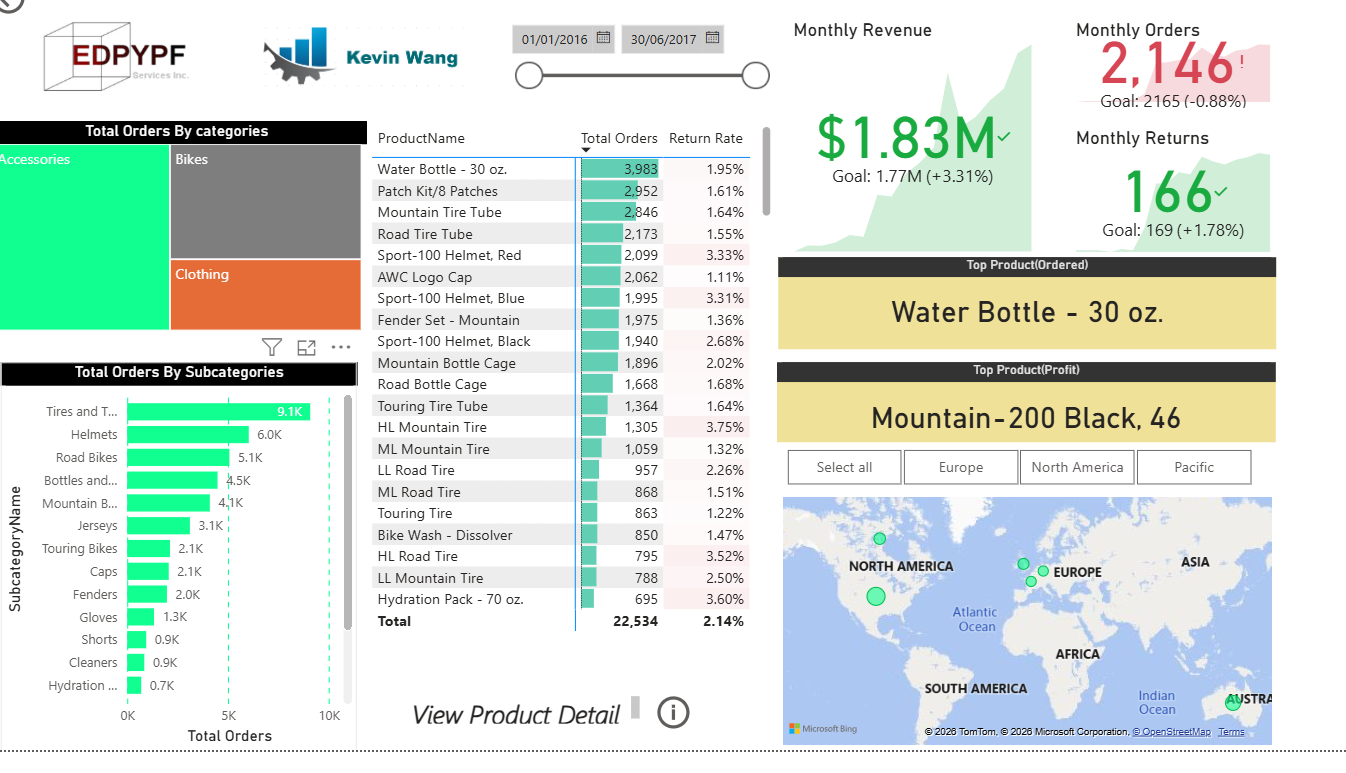

The dashboard page shown, as its layout file describes it:
{"tool":"powerbi","page":{"name":"Exct Summary","canvas":[1280,720],"ordinal":0},"visuals":[{"type":"actionButton","box":[0,0,100,40],"z":0},{"type":"barChart","title":"Total Orders By Subcategories","fields":{"Y":["AW_Sales.Total Orders"],"Category":["AW_Product_Subcategory_Lookup.SubcategoryName"]},"box":[12.3,359.5,332.1,360.9],"z":2000},{"type":"treemap","title":"Total Orders By categories","fields":{"Group":["AW_Product_Category_Lookup.CategoryName","AW_Product_Subcategory_Lookup.SubcategoryName"],"Values":["AW_Sales.Total Orders"]},"box":[0,134.9,353.5,200],"z":3000},{"type":"pivotTable","fields":{"Values":["AW_Sales.Total Orders","AW_Returns.Return Rate"],"Rows":["AW_Product_Category_Lookup.CategoryName","AW_Product_Subcategory_Lookup.SubcategoryName","AW_Product_Lookup.ProductName"]},"box":[353.5,134.9,381.4,479.1],"z":4000},{"type":"slicer","fields":{"Values":["AW_Calendar_Lookup.Date"]},"box":[475.6,34.9,260.5,79.1],"z":5000},{"type":"kpi","title":"Monthly Revenue","fields":{"Indicator":["AW_Sales.Total Revenue"],"TrendLine":["AW_Calendar_Lookup.Start of Month"],"Goal":["AW_Sales.Prev Month Revenue"]},"box":[745.7,39.6,231.7,222.1],"z":6000},{"type":"kpi","title":"Monthly Orders","fields":{"TrendLine":["AW_Calendar_Lookup.Start of Month"],"Indicator":["AW_Sales.Total Orders"],"Goal":["AW_Sales.Prev Month Orders"]},"box":[1008.6,39.6,190.9,82.9],"z":7000},{"type":"kpi","title":"Monthly Returns","fields":{"TrendLine":["AW_Calendar_Lookup.Start of Month"],"Indicator":["AW_Returns.Total Returns"],"Goal":["AW_Returns.Prev Month Returns"]},"box":[1008.6,140.5,190.9,121.3],"z":8000},{"type":"card","title":"Top Product(Ordered)","fields":{"Values":["AW_Product_Lookup.ProductName"]},"box":[736.1,261.8,463.5,85.3],"z":9000},{"type":"card","title":"Top Product(Profit)","fields":{"Values":["AW_Product_Lookup.ProductName"]},"box":[734.9,359.3,464,86],"z":10000},{"type":"map","fields":{"Category":["AW_Territories_Lookup.Country"],"Size":["AW_Sales.Total Orders"]},"box":[736,480.2,464,239.5],"z":11000},{"type":"slicer","fields":{"Values":["AW_Territories_Lookup.Continent"]},"box":[718.6,433.7,481.4,46.5],"z":12000},{"type":"textbox","box":[389.1,665.7,222.4,35.6],"z":13000},{"type":"actionButton","box":[618.6,665.7,99.8,39.9],"z":14000},{"type":"image","box":[36,0,193,148.8],"z":14001},{"type":"image","box":[247.7,19.8,210.5,110.5],"z":14002}]}

Visuals, with their boxes in screenshot pixels (x1, y1, x2, y2), scaled from the page's 1280x720 canvas onto the 1346x773 screenshot:
actionButton: pyautogui.locateOnScreen(0, 0, 105, 43)
"Total Orders By Subcategories" barChart: pyautogui.locateOnScreen(13, 386, 362, 772)
"Total Orders By categories" treemap: pyautogui.locateOnScreen(0, 145, 372, 360)
pivotTable - AW_Sales.Total Orders x AW_Returns.Return Rate: pyautogui.locateOnScreen(372, 145, 773, 659)
slicer - AW_Calendar_Lookup.Date: pyautogui.locateOnScreen(500, 37, 774, 122)
"Monthly Revenue" kpi: pyautogui.locateOnScreen(784, 43, 1028, 281)
"Monthly Orders" kpi: pyautogui.locateOnScreen(1061, 43, 1261, 132)
"Monthly Returns" kpi: pyautogui.locateOnScreen(1061, 151, 1261, 281)
"Top Product(Ordered)" card: pyautogui.locateOnScreen(774, 281, 1261, 373)
"Top Product(Profit)" card: pyautogui.locateOnScreen(773, 386, 1261, 478)
map - AW_Territories_Lookup.Country x AW_Sales.Total Orders: pyautogui.locateOnScreen(774, 516, 1262, 772)
slicer - AW_Territories_Lookup.Continent: pyautogui.locateOnScreen(756, 466, 1262, 516)
textbox: pyautogui.locateOnScreen(409, 715, 643, 753)
actionButton: pyautogui.locateOnScreen(650, 715, 755, 758)
image: pyautogui.locateOnScreen(38, 0, 241, 160)
image: pyautogui.locateOnScreen(260, 21, 482, 140)
